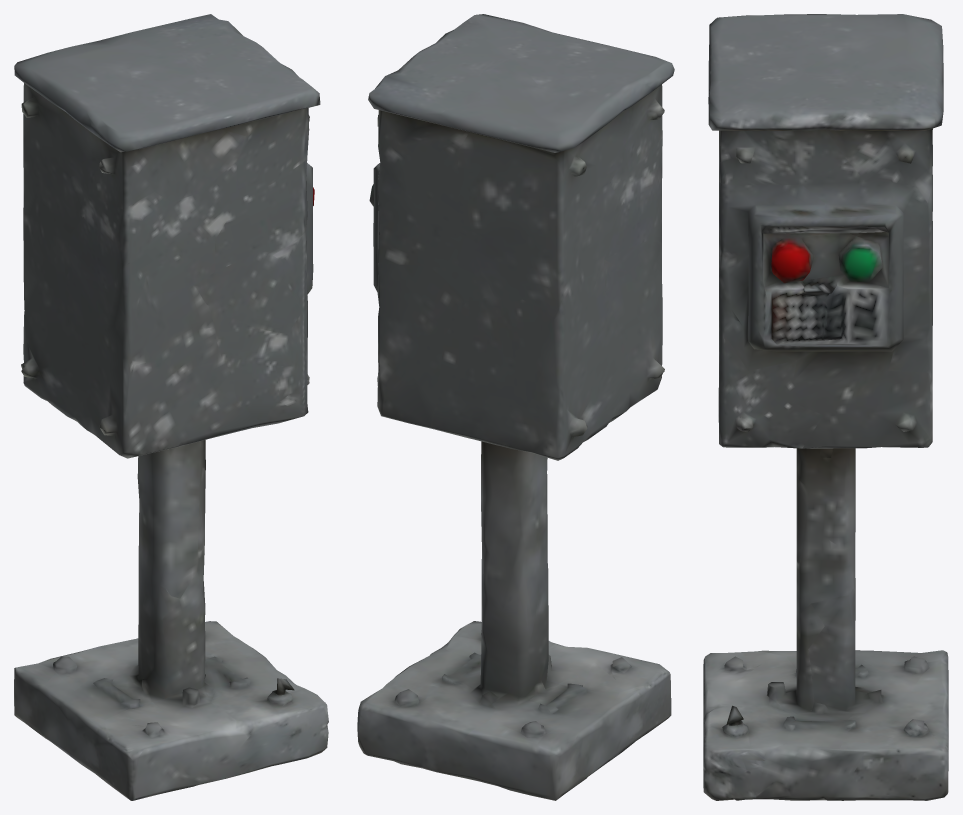
Rendered from card_reader.dd03bf76fe.glb.
3 views of the same model, side by side, from view 1: azimuth 30°, elevation 25°; view 2: azimuth 150°, elevation 25°; view 3: azimuth 270°, elevation 25° (orthographic). The views are drawn at different scales.
Visible parts, largest first — view 1: card_reader; view 2: card_reader; view 3: card_reader.
Part boxes in pixels (x1,y1,x2,y2): card_reader: [14, 14, 328, 800]; card_reader: [357, 14, 674, 800]; card_reader: [703, 14, 948, 800].
Bounding box in the file's own units: 0.4322 × 1.2 × 0.3881.
Materials: 1 (1 with a texture image).
